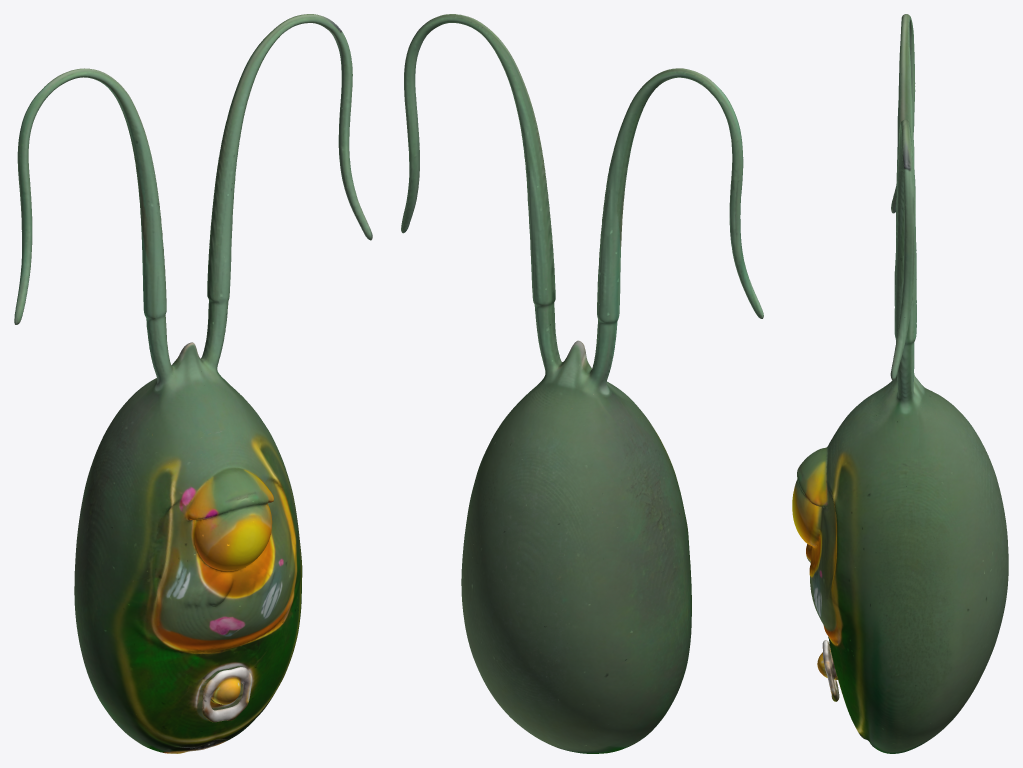
File: Meshy_AI_chlamydomonas_0310154143_texture.fbx
The picture shows the model from 3 angles, left to right: view 1: azimuth 30°, elevation 25°; view 2: azimuth 150°, elevation 25°; view 3: azimuth 270°, elevation 25°; orthographic projection. The views are drawn at different scales.
Parts seen in each view (by area): view 1: Mesh_0; view 2: Mesh_0; view 3: Mesh_0.
Boxes of the visible parts, x1=… form: Mesh_0: x1=14, y1=14, x2=372, y2=753; Mesh_0: x1=401, y1=14, x2=763, y2=753; Mesh_0: x1=792, y1=14, x2=1008, y2=753.
Bounding box in the file's own units: 107 × 200 × 58.35.
Materials: 1 (1 with a texture image).
